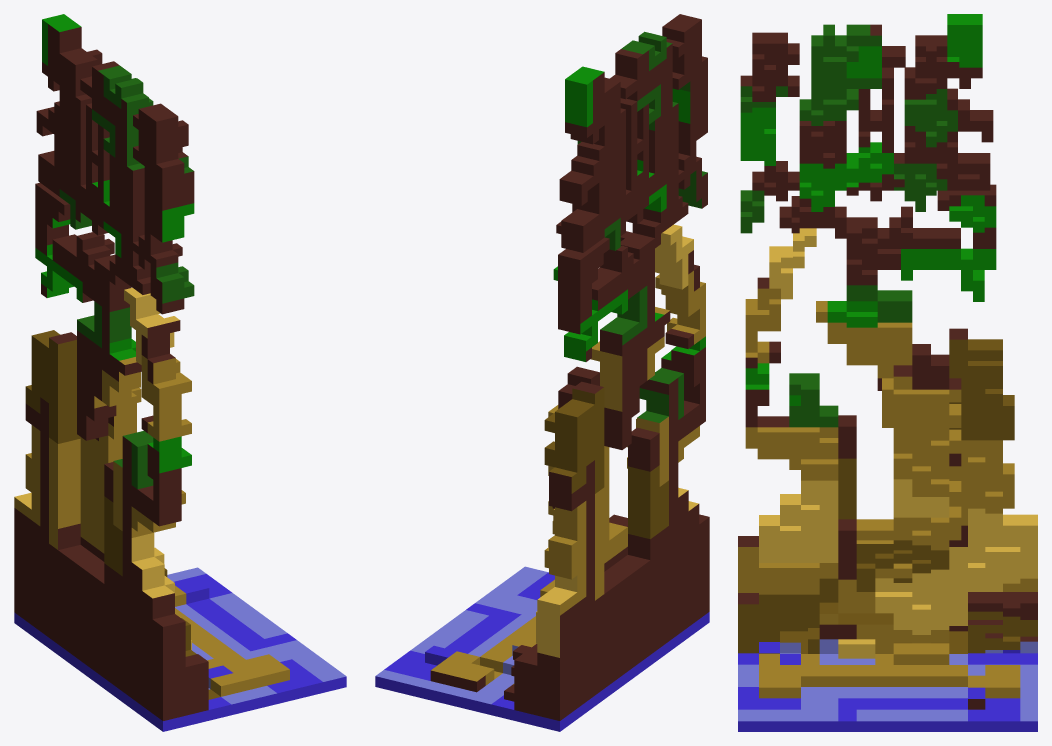
The model's file is BackTest.fbx.
3 renders of one model, left to right at view 1: azimuth 30°, elevation 25°; view 2: azimuth 150°, elevation 25°; view 3: azimuth 270°, elevation 25°, orthographic.
Visible parts, largest first — view 1: Cube; view 2: Cube; view 3: Cube.
Boxes of the visible parts, box(x1,y1,x2,y2) form: Cube: box(14, 14, 346, 731); Cube: box(375, 14, 709, 731); Cube: box(738, 14, 1037, 731).
Bounding box in the file's own units: 1812 × 5879 × 2544.
